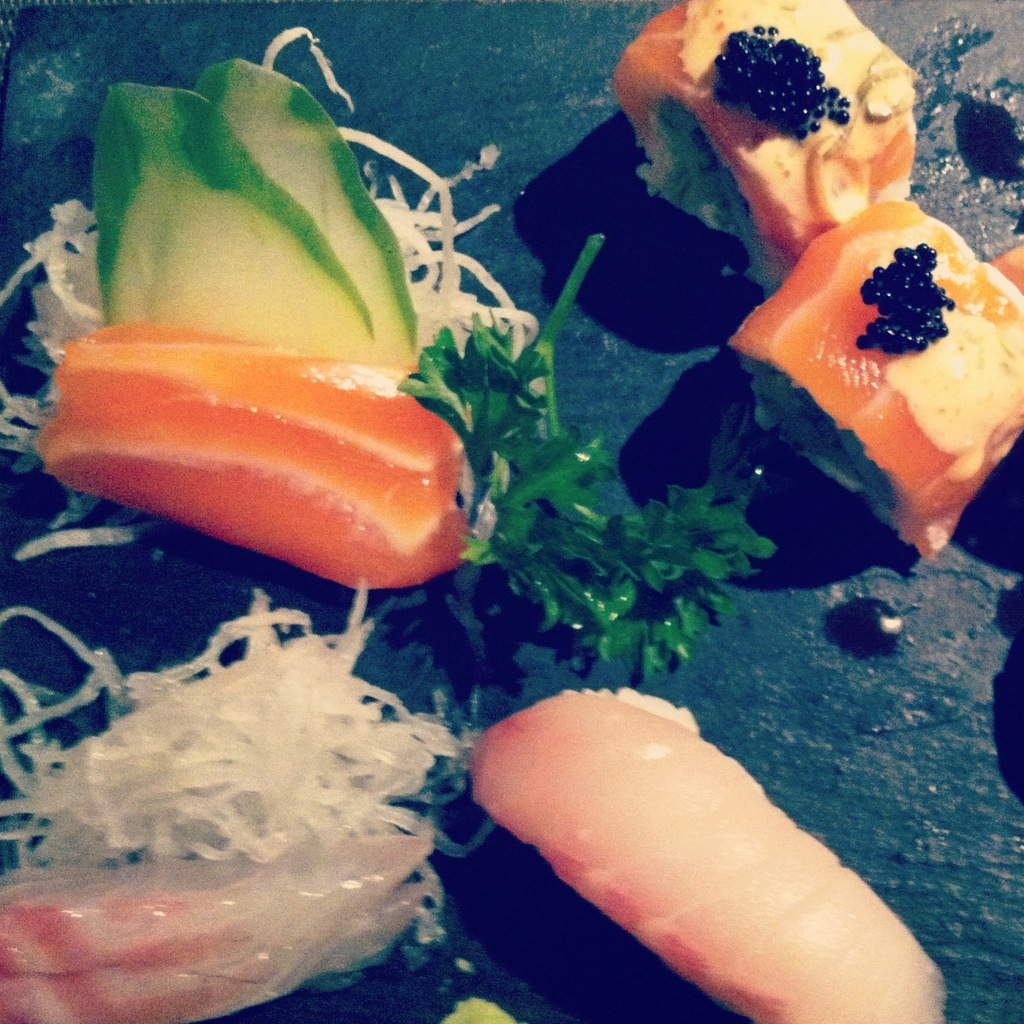sushi: (466, 691, 947, 1023), (43, 320, 458, 590), (730, 200, 1023, 563), (618, 0, 919, 295)
